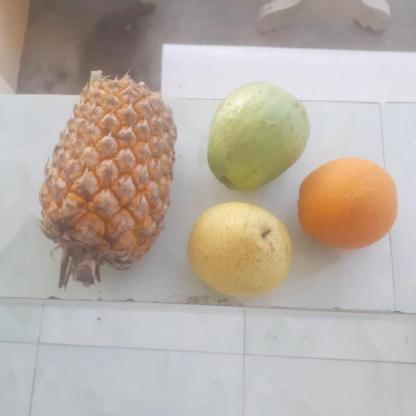guava: (205, 84, 308, 188)
orange: (296, 155, 404, 252)
pear: (181, 202, 292, 302)
pineapple: (42, 79, 170, 271)
